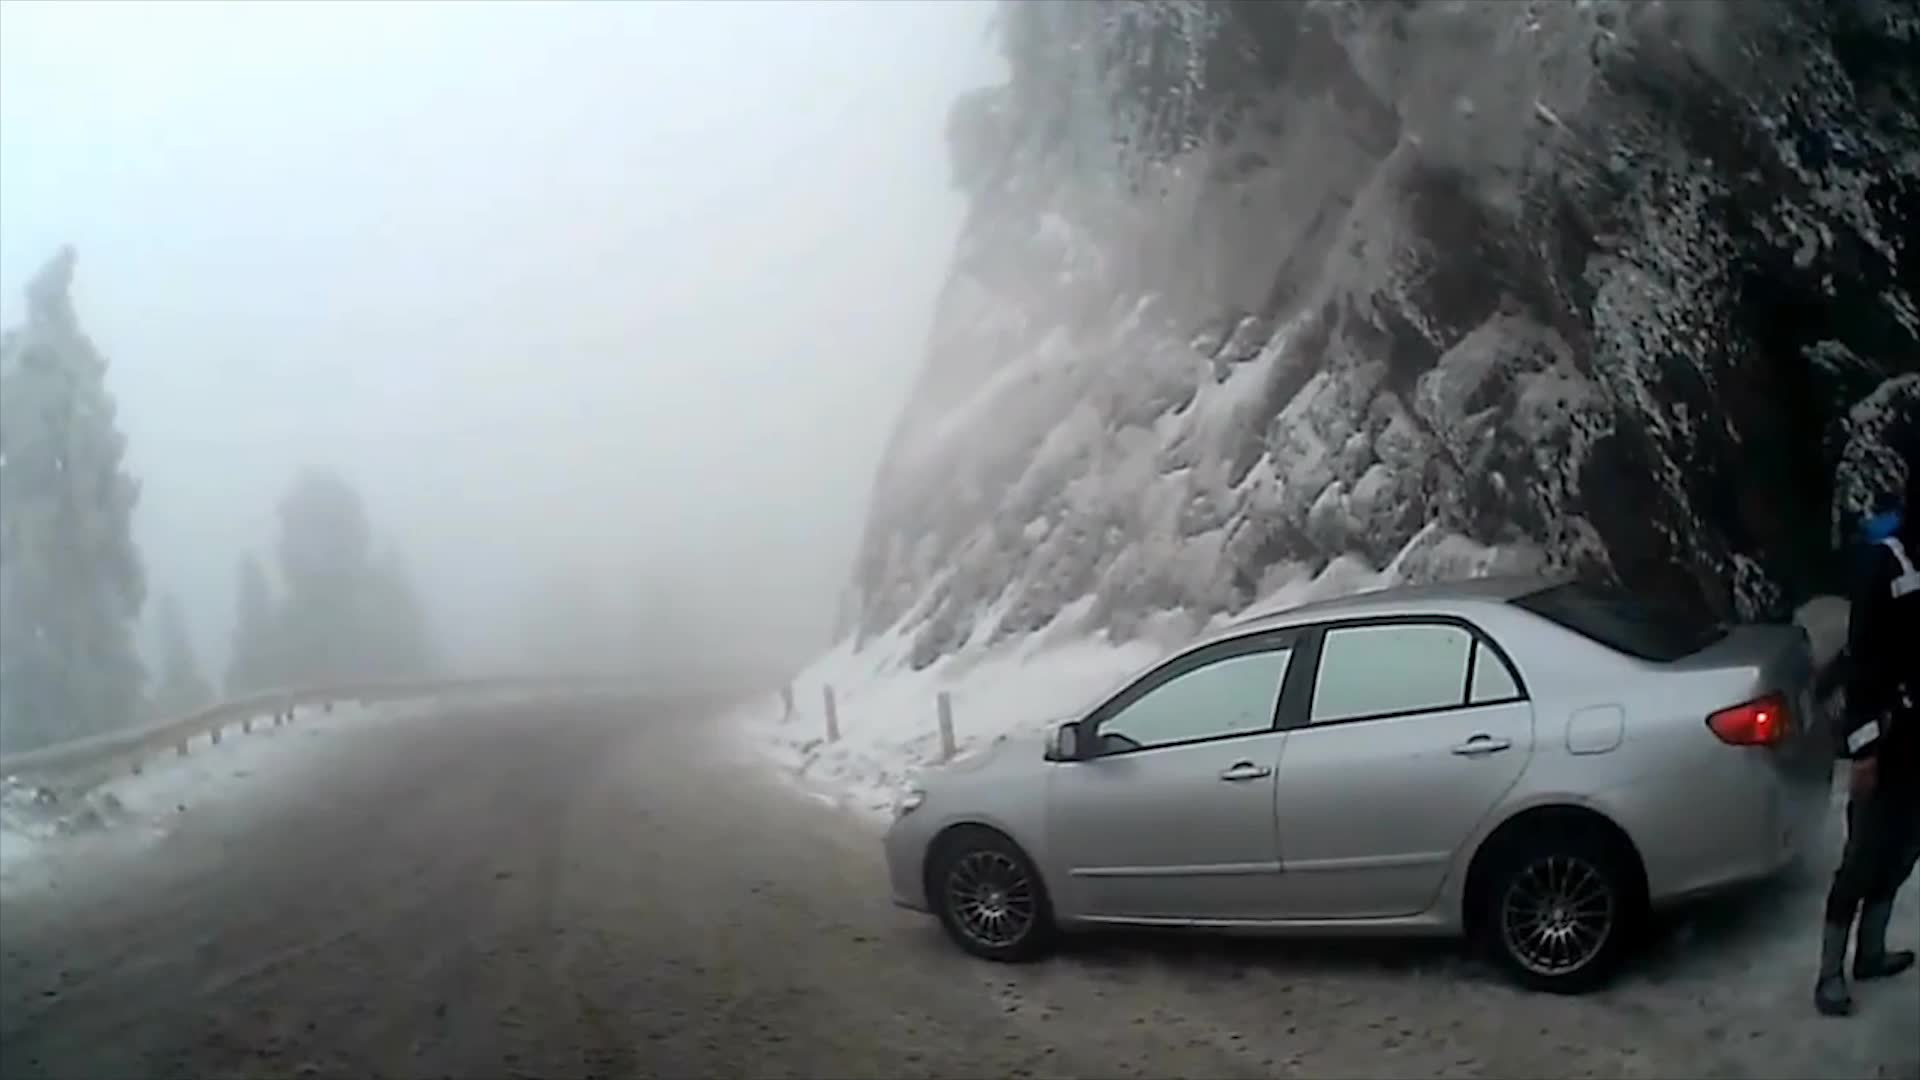pedestrian: (1814, 462, 1920, 1018)
vehicle: (882, 572, 1833, 992)
